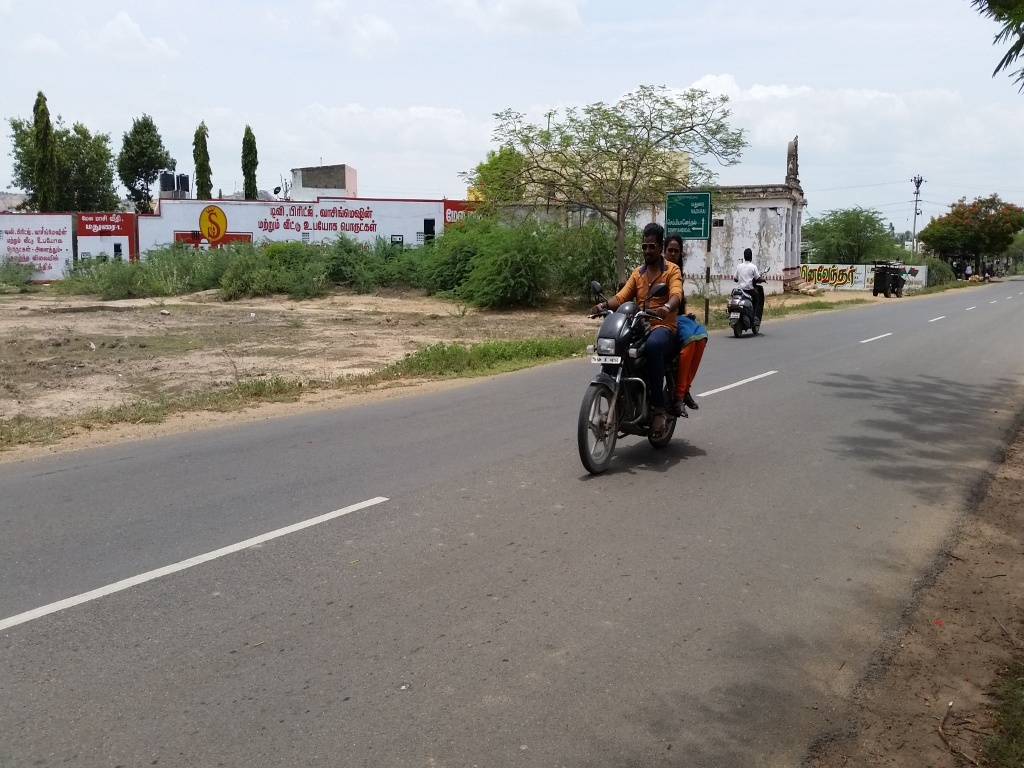biker: (563, 192, 719, 478), (720, 222, 776, 344)
nohelmet: (636, 220, 666, 271), (661, 223, 691, 274), (738, 239, 760, 270)
